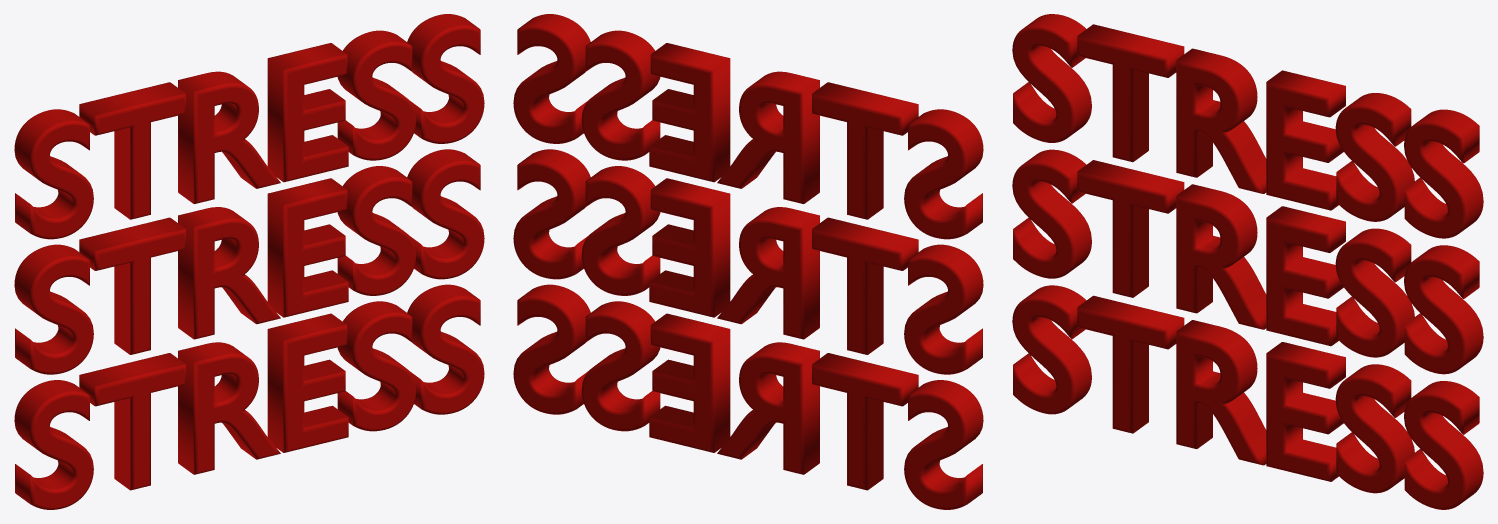
Rendered from STRESS obstacle.fbx.
The picture shows the model from 3 angles, left to right: view 1: azimuth 30°, elevation 25°; view 2: azimuth 150°, elevation 25°; view 3: azimuth 330°, elevation 25°; orthographic projection.
Visible parts, largest first — view 1: Text.002, Text.004, Text; view 2: Text.002, Text.004, Text; view 3: Text.002, Text.004, Text.
Part boxes in pixels (x1,y1,x2,y2): Text.002: [14, 149, 484, 374]; Text.004: [14, 14, 484, 239]; Text: [14, 284, 484, 509]; Text.002: [513, 149, 983, 374]; Text.004: [513, 14, 983, 239]; Text: [513, 284, 983, 509]; Text.002: [1012, 149, 1483, 374]; Text.004: [1012, 14, 1483, 238]; Text: [1012, 285, 1483, 509].
Size of the model in its own units: 348 by 282 by 24.6.
